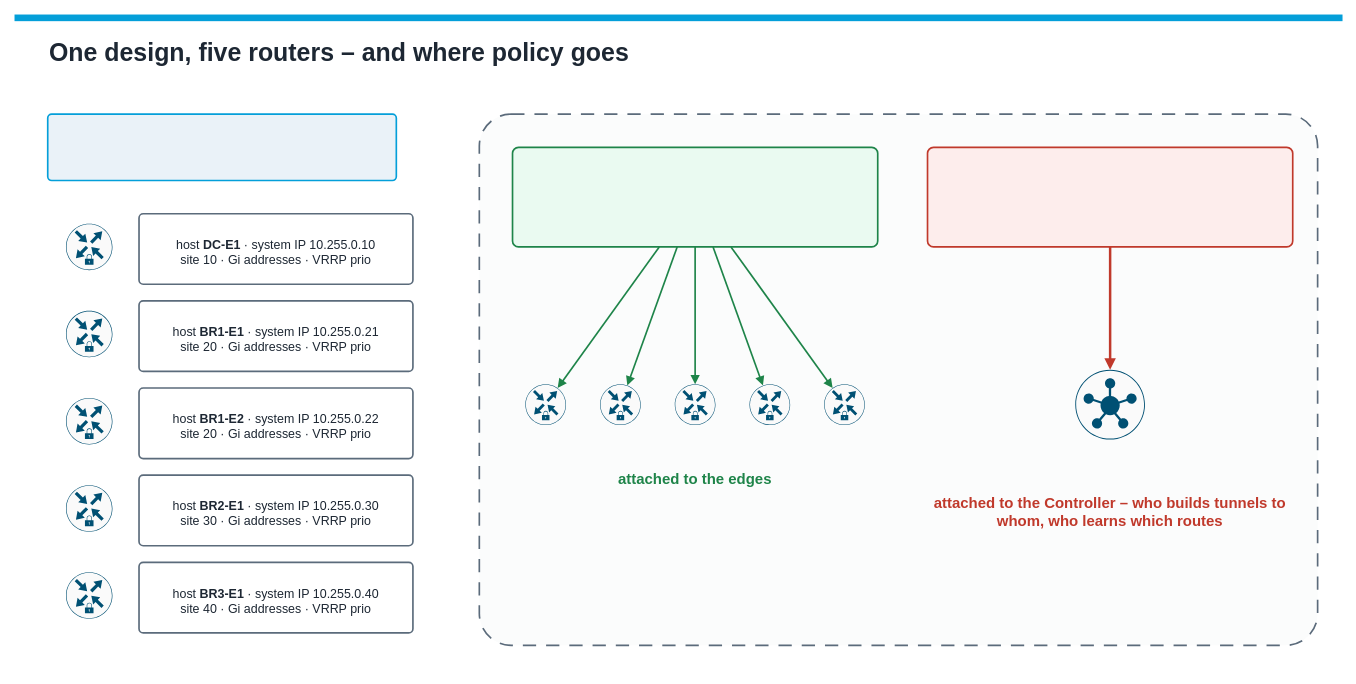
Some shapes in this 1356 by 684 pixel diagram are drawn without their labels. Here are the shapes that lost their labels. From the top down, the centre of each, then its label:
(x=221, y=147): BRANCH-CG + per-device variables
(x=694, y=196): Policy group bundles policy profiles
(x=1109, y=196): Topology group bundles topology profiles
